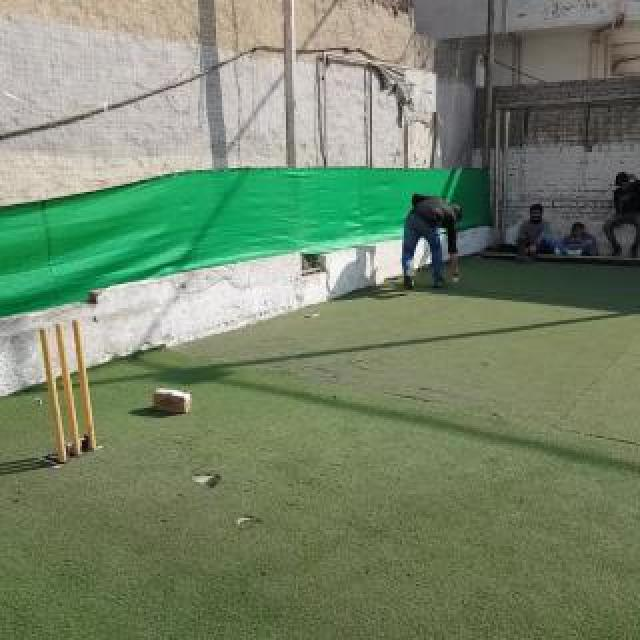ball: (451, 276, 461, 284)
